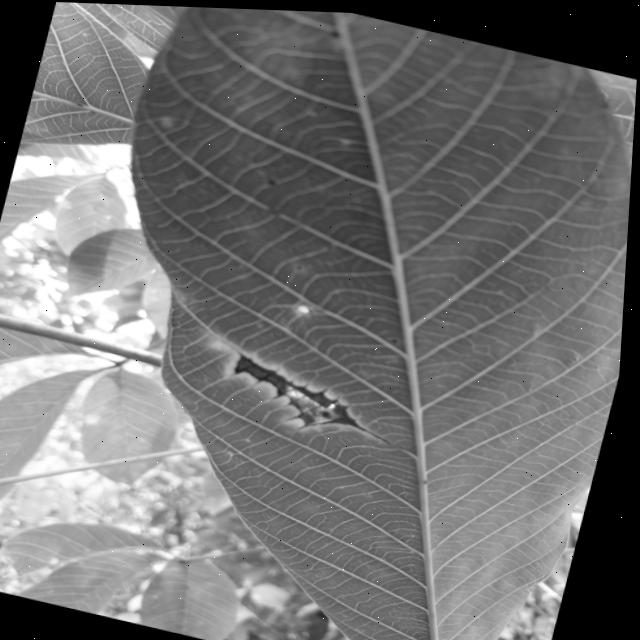Corynespora: (228, 351, 410, 449)
